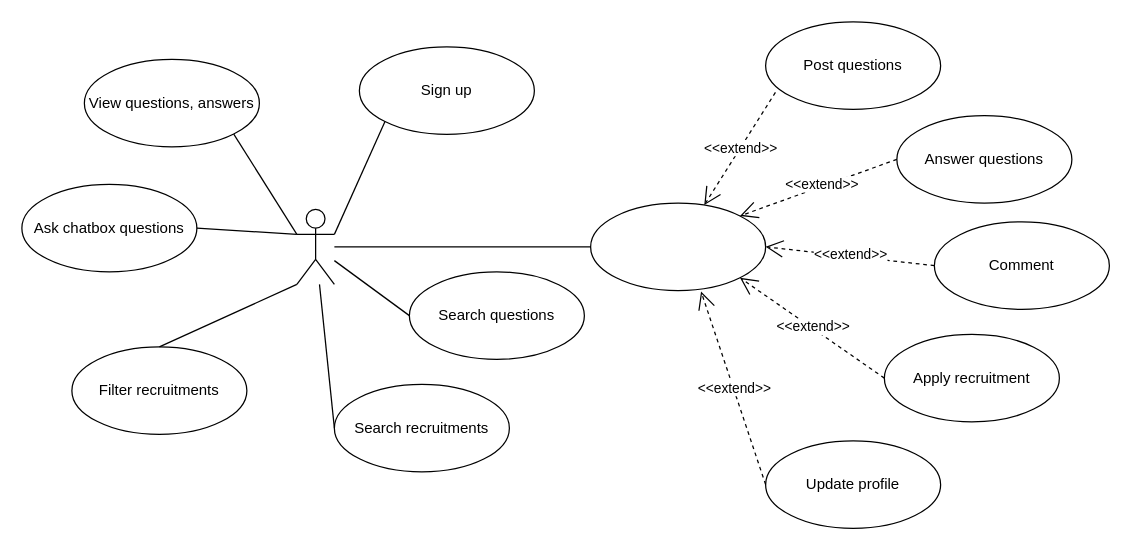
The diagram is 1131 pixels wide and 551 high, and some of its shapes have lost their labels. Here are the shapes that lost their labels. From the top down, the centre of each, then its label:
the point at 315,246: User
the point at 677,246: Sign in
